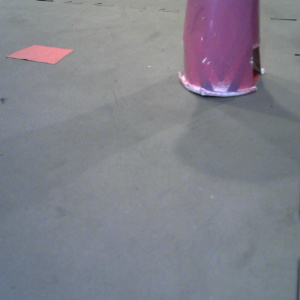right: (176, 1, 269, 99)
